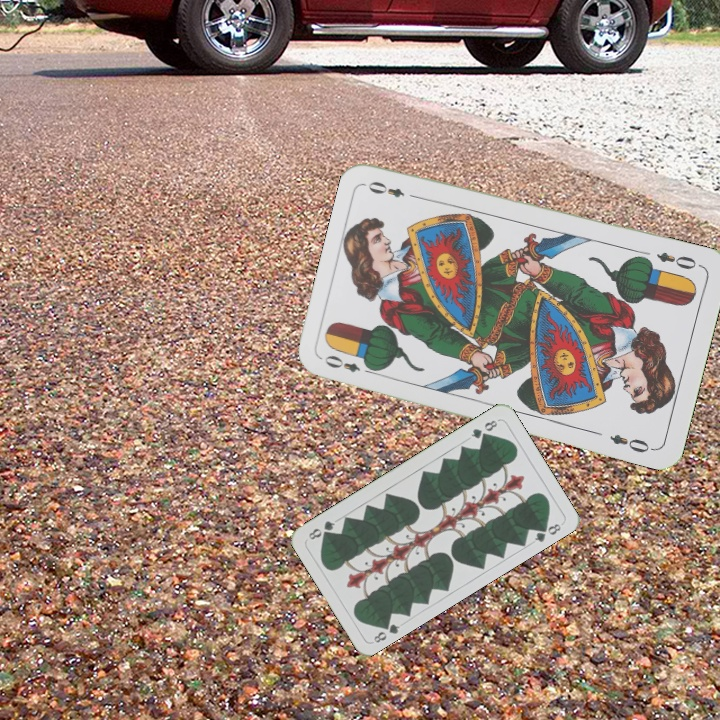EO: (320, 351, 378, 377), (652, 247, 704, 272)
G8: (369, 617, 403, 646), (467, 416, 501, 441)
